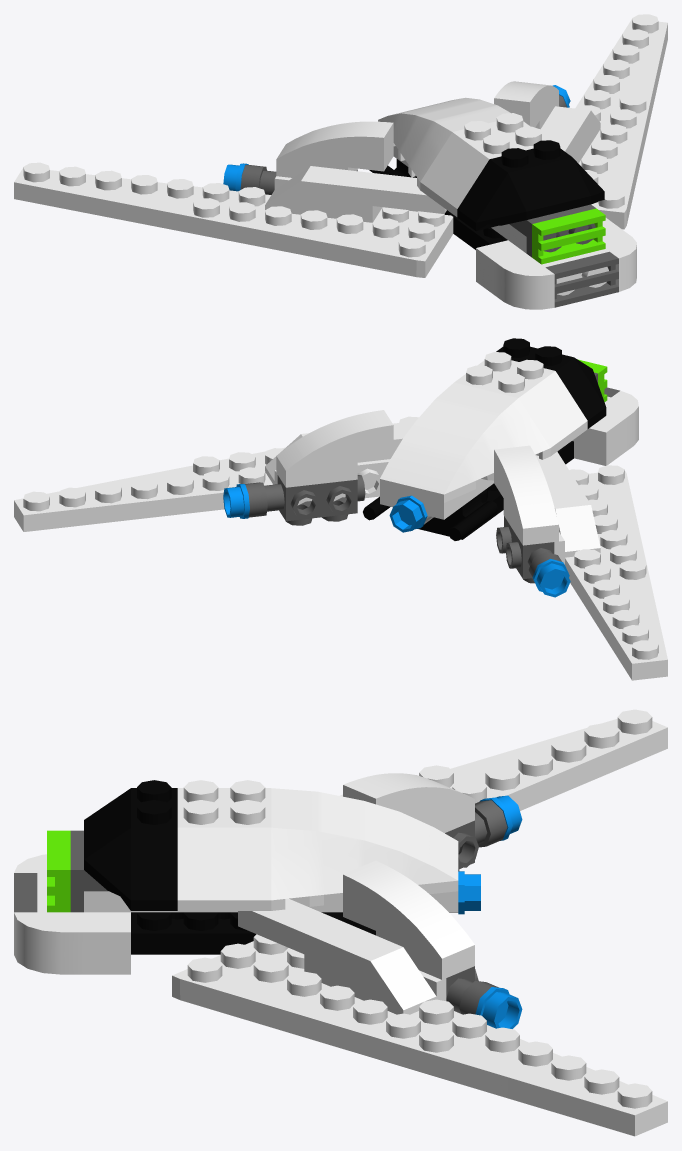
File: LegoShip.fbx
The picture shows the model from 3 angles, top to bottom: view 1: azimuth 30°, elevation 25°; view 2: azimuth 150°, elevation 25°; view 3: azimuth 270°, elevation 25°; orthographic projection. The views are drawn at different scales.
Visible parts, largest first — view 1: LegoWing12x3x1_4 (×2), LegoShipPanel4x6x3_4, LegoShipPanel4x2x3_4, LegoSlope1x3x3_5 (×2), LegoPlate1x4x1_4 (×2), legoChamfer1x2x1, LegoGrate1x2x1_5, LegoGrate1x2x1_4, legoChamfer1x2x1_1, LegoAngle1x4x1_4, LegoAngle1x2x2, LegoSlope1x1x1_4 (+5 smaller); view 2: LegoWing12x3x1_4 (×2), LegoShipPanel4x6x3_4, LegoSlope1x3x3_5 (×2), LegoThruster1x3x1_4 (×2), LegoShipPanel4x2x3_4, LegoStud1x1x1_4 (×3), LegoSlope1x1x1_4, legoChamfer1x2x1, LegoWing1x2x1_4, LegoPlate1x4x1_4, Lego1X4x1_4, LegoRotCuff2x2x1_4 (+2 smaller); view 3: LegoWing12x3x1_4 (×2), LegoShipPanel4x6x3_4, LegoSlope1x3x3_5 (×2), LegoShipPanel4x2x3_4, LegoPlate1x4x1_4, legoChamfer1x2x1_1, LegoHoledPlate2x6x1_4, LegoThruster1x3x1_4 (×2), LegoStud1x1x1_4 (×3), LegoSlope1x1x1_4, LegoGrate1x2x1_5, LegoPlate2x6x1_4 (+5 smaller).
Part boxes in pixels (x1,y1,x2,y2): LegoWing12x3x1_4 (×2): (14,14,667,277); LegoShipPanel4x6x3_4: (378,97,548,216); LegoShipPanel4x2x3_4: (457,140,604,230); LegoSlope1x3x3_5 (×2): (276,81,558,177); LegoPlate1x4x1_4 (×2): (301,106,590,213); legoChamfer1x2x1: (485,247,577,309); LegoGrate1x2x1_5: (532,208,605,264); LegoGrate1x2x1_4: (545,251,618,307); legoChamfer1x2x1_1: (574,223,636,291); LegoAngle1x4x1_4: (274,176,417,222); LegoAngle1x2x2: (509,204,595,257); LegoSlope1x1x1_4: (265,166,309,214); LegoWing12x3x1_4 (×2): (14,416,667,680); LegoShipPanel4x6x3_4: (380,352,587,502); LegoSlope1x3x3_5 (×2): (276,410,558,545); LegoThruster1x3x1_4 (×2): (245,475,561,583); LegoShipPanel4x2x3_4: (496,338,606,428); LegoStud1x1x1_4 (×3): (223,484,570,597); LegoSlope1x1x1_4: (555,505,600,557); legoChamfer1x2x1: (598,390,638,458); LegoWing1x2x1_4: (363,493,498,540); LegoPlate1x4x1_4: (535,451,590,509); Lego1X4x1_4: (572,421,615,465); LegoRotCuff2x2x1_4: (380,478,481,524); LegoWing12x3x1_4 (×2): (172,709,667,1136); LegoShipPanel4x6x3_4: (177,780,458,910); LegoSlope1x3x3_5 (×2): (343,773,474,979); LegoShipPanel4x2x3_4: (84,780,177,910); LegoPlate1x4x1_4: (238,898,402,981); legoChamfer1x2x1_1: (14,892,107,974); LegoHoledPlate2x6x1_4: (131,912,364,954); LegoThruster1x3x1_4 (×2): (445,800,507,1014); LegoStud1x1x1_4 (×3): (458,795,522,1028); LegoSlope1x1x1_4: (370,947,436,1014); LegoGrate1x2x1_5: (47,830,70,912); LegoPlate2x6x1_4: (84,891,342,912).
Size of the model in its own units: 3.58 by 0.6154 by 2.46.
